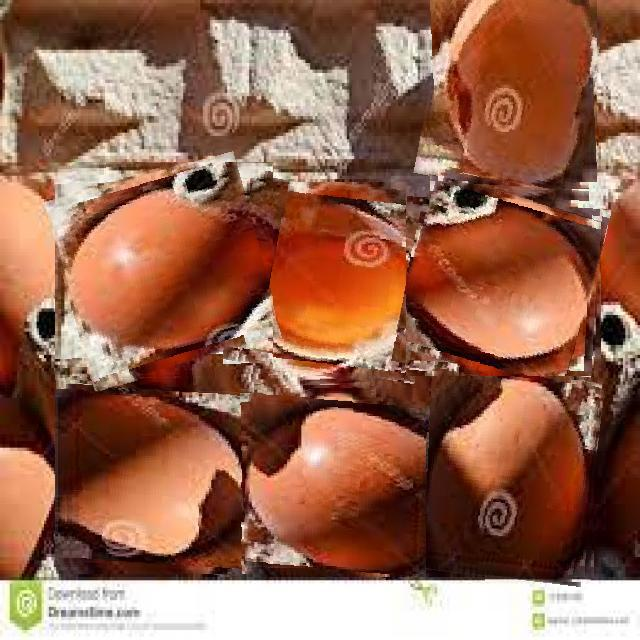biodegradable: (55, 162, 274, 380), (230, 182, 438, 390), (406, 179, 603, 376), (60, 379, 254, 574), (426, 369, 600, 583), (240, 388, 429, 577), (421, 0, 597, 195)
